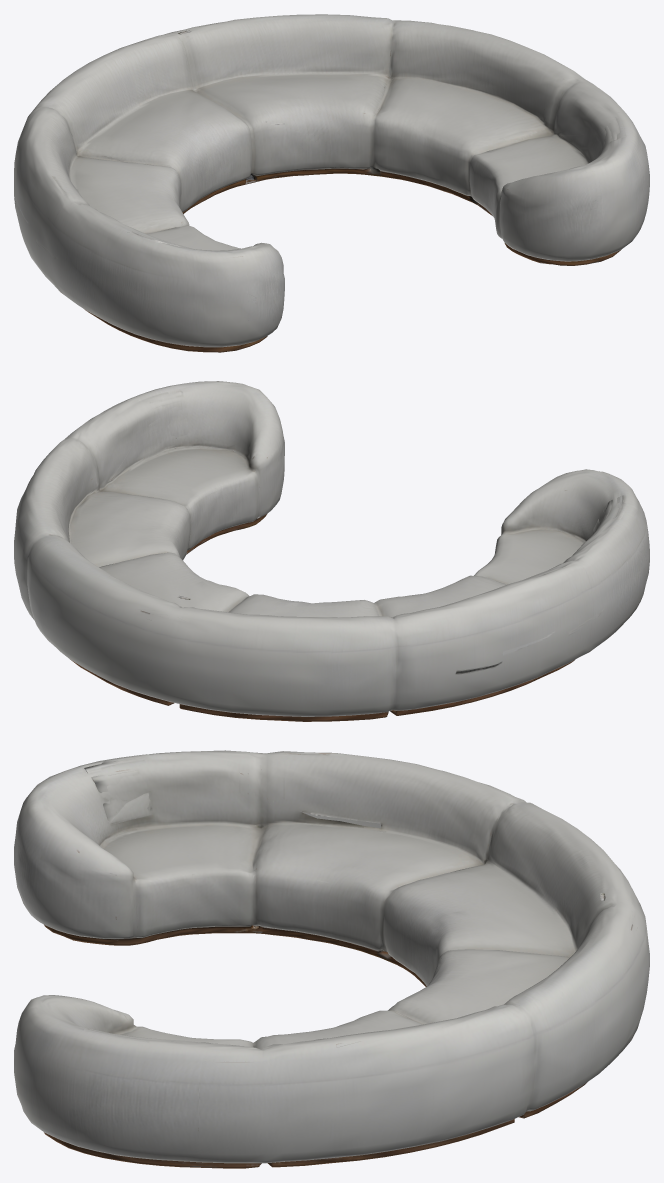
File: white_crescent_sofa_0127183211_texture.glb
3 renders of one model, top to bottom at view 1: azimuth 30°, elevation 25°; view 2: azimuth 150°, elevation 25°; view 3: azimuth 270°, elevation 25°, orthographic. The views are drawn at different scales.
Parts seen in each view (by area): view 1: Mesh_0; view 2: Mesh_0; view 3: Mesh_0.
Boxes of the visible parts, x1,y1,x2,y2 form: Mesh_0: [14, 14, 649, 352]; Mesh_0: [14, 381, 649, 721]; Mesh_0: [14, 750, 649, 1168].
Size of the model in its own units: 4.55 by 0.8128 by 3.82.
Materials: 1 (1 with a texture image).
